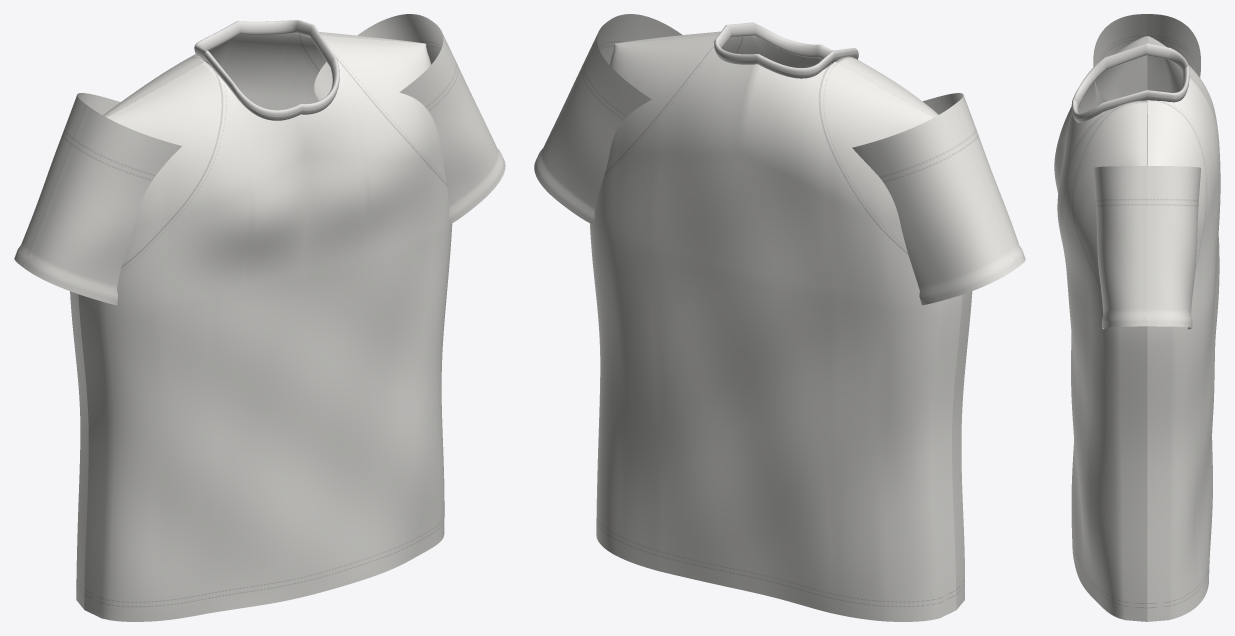
File: haut-sport-homme.glb
3 views of the same model, side by side, from view 1: azimuth 30°, elevation 25°; view 2: azimuth 150°, elevation 25°; view 3: azimuth 270°, elevation 25° (orthographic). The views are drawn at different scales.
Visible parts, largest first — view 1: Devant, Manche_gauche, Dos, Manche_droite, Col; view 2: Dos, Manche_gauche, Manche_droite, Devant, Col; view 3: Devant, Dos, Manche_droite, Manche_gauche, Col.
Boxes of the visible parts, x1=… form: Devant: x1=78, y1=35, x2=452, y2=621; Manche_gauche: x1=14, y1=93, x2=181, y2=305; Dos: x1=70, y1=32, x2=424, y2=609; Manche_droite: x1=314, y1=14, x2=505, y2=224; Col: x1=194, y1=20, x2=339, y2=120; Dos: x1=590, y1=35, x2=961, y2=621; Manche_gauche: x1=852, y1=93, x2=1025, y2=305; Manche_droite: x1=534, y1=14, x2=682, y2=224; Devant: x1=615, y1=31, x2=972, y2=609; Col: x1=714, y1=22, x2=858, y2=78; Devant: x1=1054, y1=36, x2=1147, y2=621; Dos: x1=1147, y1=36, x2=1220, y2=621; Manche_droite: x1=1093, y1=166, x2=1200, y2=329; Manche_gauche: x1=1093, y1=14, x2=1200, y2=165; Col: x1=1071, y1=43, x2=1189, y2=122.
Size of the model in its own units: 0.6465 by 0.6909 by 0.2176.
4 materials, 4 textured.
